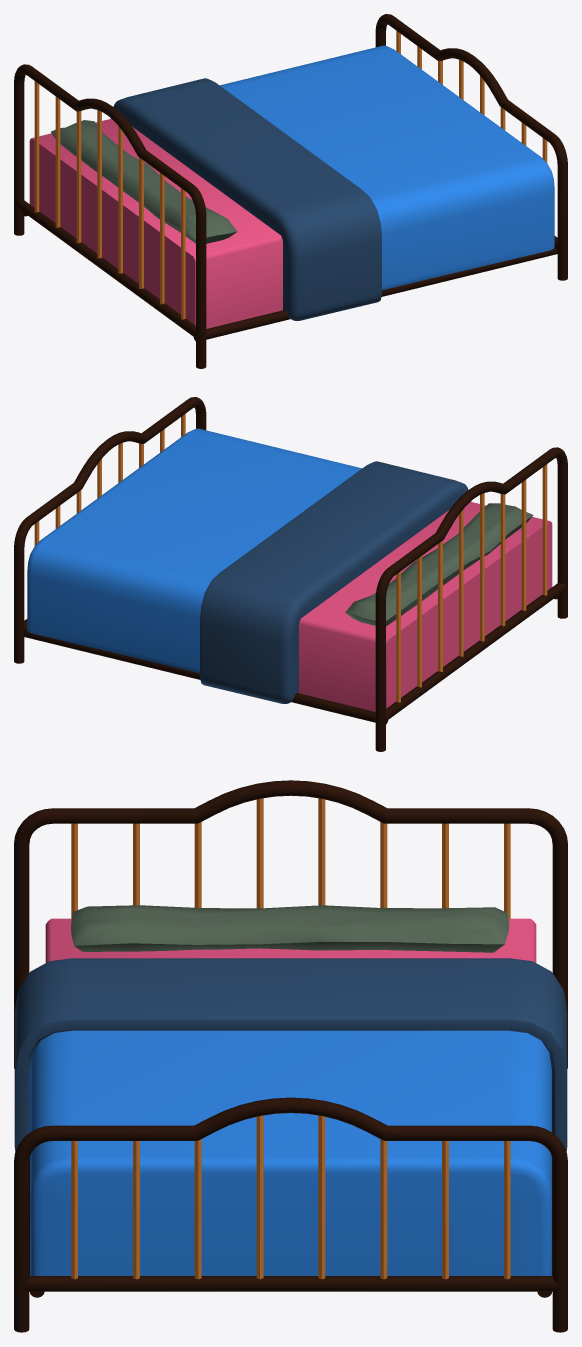
Rendered from SM_Lit_2.fbx.
3 views of the same model, one above another, from view 1: azimuth 30°, elevation 25°; view 2: azimuth 150°, elevation 25°; view 3: azimuth 270°, elevation 25° (orthographic). The views are drawn at different scales.
Parts seen in each view (by area): view 1: SM_Lit_2; view 2: SM_Lit_2; view 3: SM_Lit_2.
Boxes of the visible parts, x1,y1,x2,y2 form: SM_Lit_2: [14, 14, 567, 368]; SM_Lit_2: [14, 397, 567, 751]; SM_Lit_2: [14, 780, 567, 1332].
Size of the model in its own units: 2.05 by 1.03 by 1.79.
